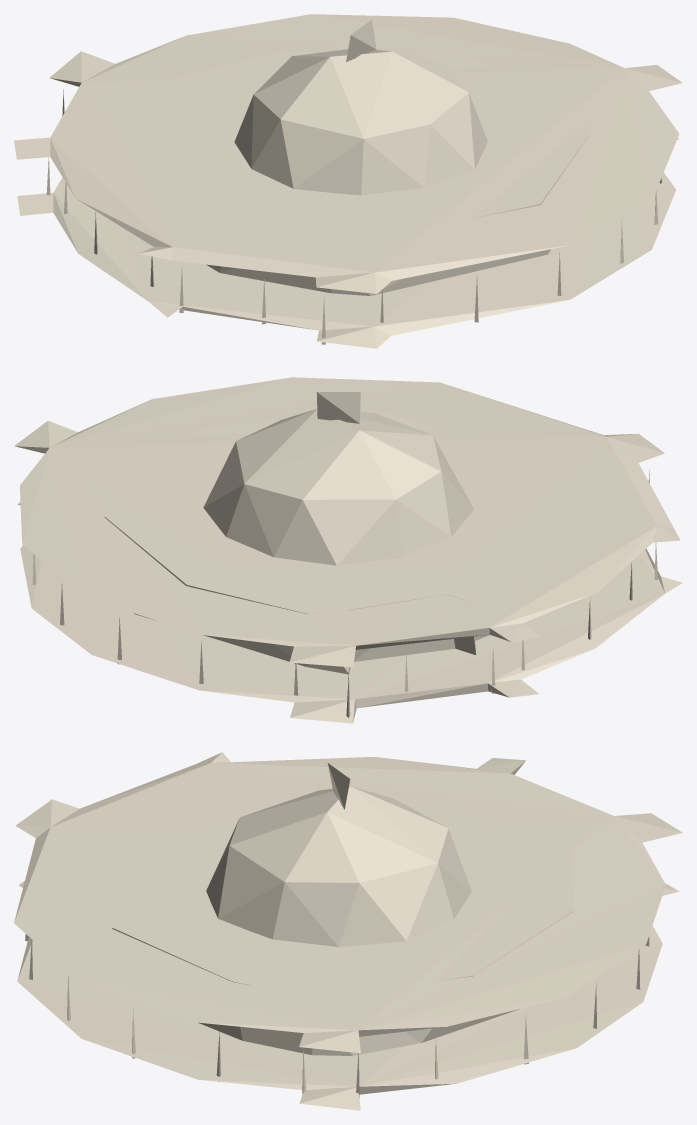
Rendered from old-parliament-house_lod2.glb.
3 renders of one model, top to bottom at view 1: azimuth 30°, elevation 25°; view 2: azimuth 150°, elevation 25°; view 3: azimuth 270°, elevation 25°, orthographic. The views are drawn at different scales.
Visible parts, largest first — view 1: old-parliament-house; view 2: old-parliament-house; view 3: old-parliament-house.
Part boxes in pixels (x1,y1,x2,y2): old-parliament-house: (14, 14, 682, 348); old-parliament-house: (14, 377, 682, 723); old-parliament-house: (14, 752, 682, 1110).
Bounding box in the file's own units: 190 × 55.41 × 180.
